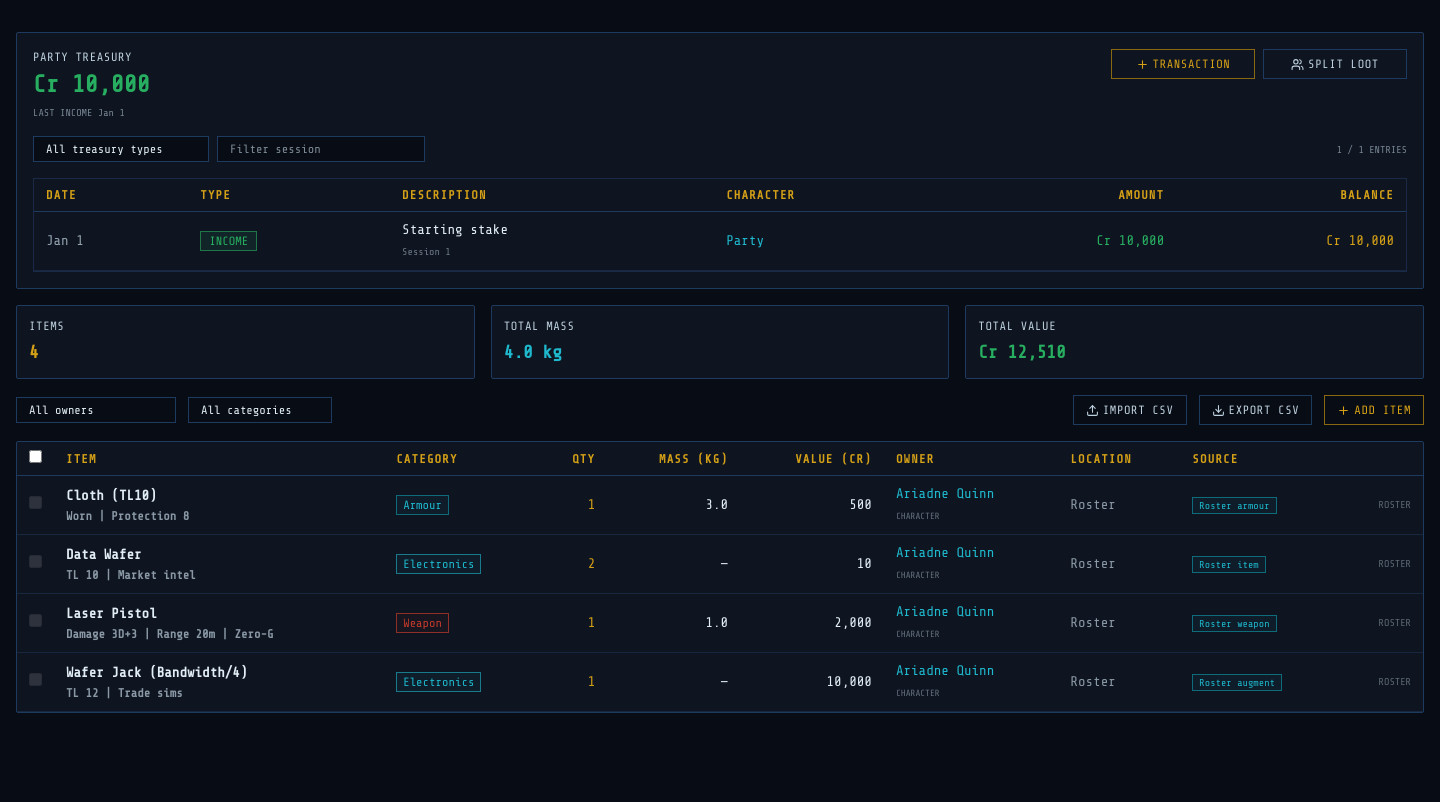
Test: InventoryManager › shows party treasury balance and adds a transaction
The width and height of the screenshot is (1440, 802).
Expected: the text "PARTY TREASURY" is shown, [33, 50, 132, 64]
Expected: the text "Cr 10,000" is shown, [33, 71, 150, 98]
Click the button "TRANSACTION" at [1183, 64], box [1111, 49, 1255, 79]
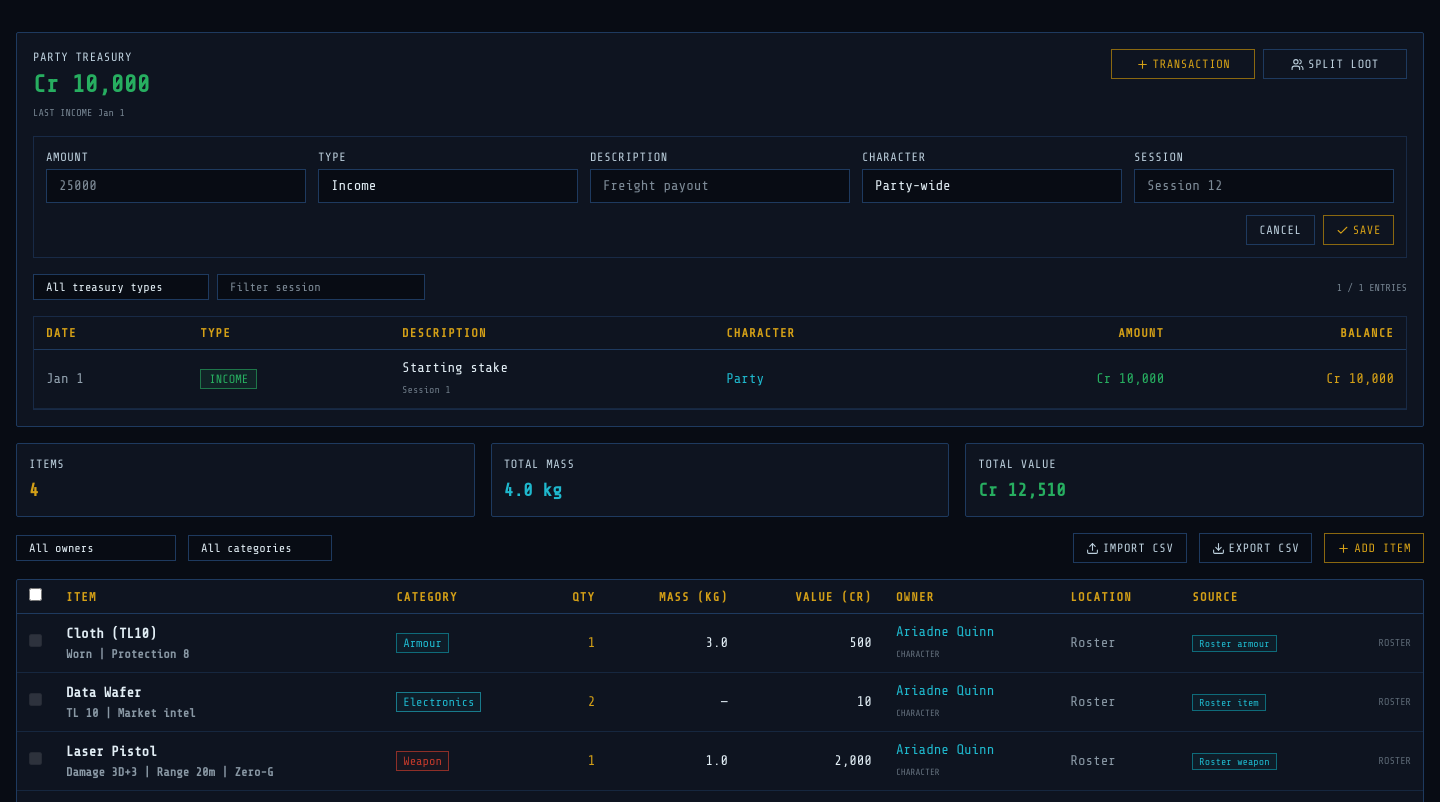
Type "2500" into the field labelled "Amount" at [176, 186], box [46, 169, 306, 203]
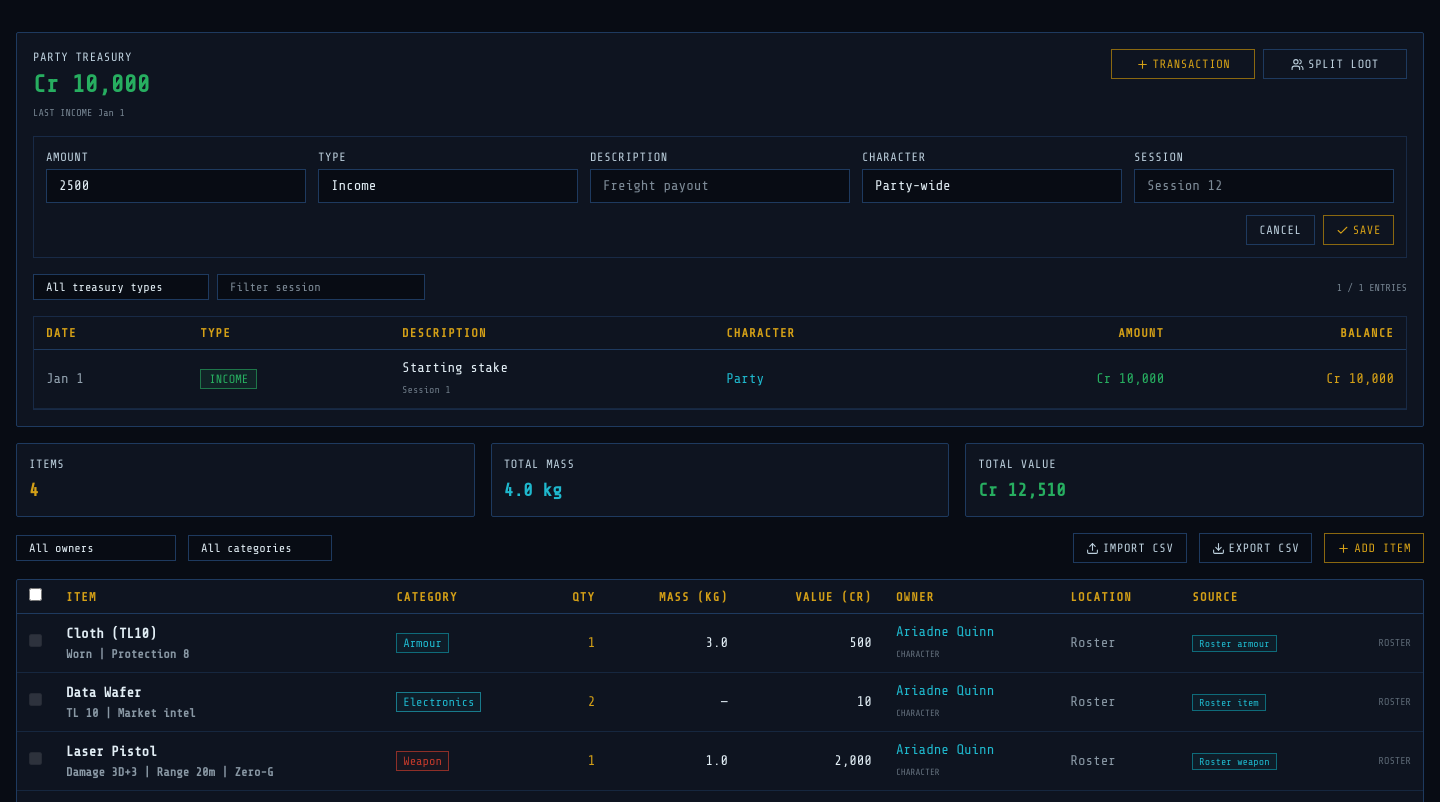
Select "Expense" in the dropdown labelled "Type" at [448, 186], box [318, 169, 578, 203]
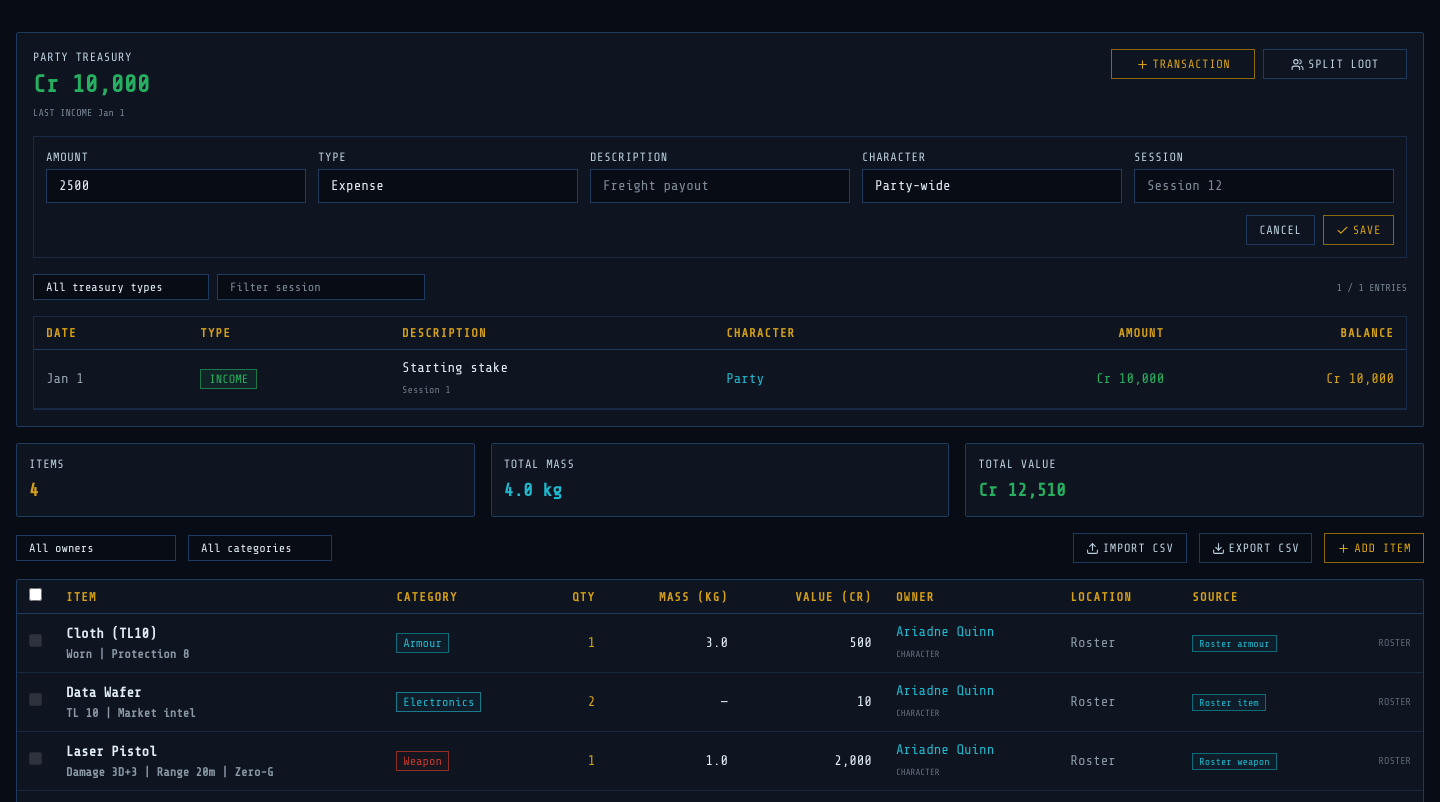
Type "Dock fees" into the field labelled "Description" at [720, 186], box [590, 169, 850, 203]
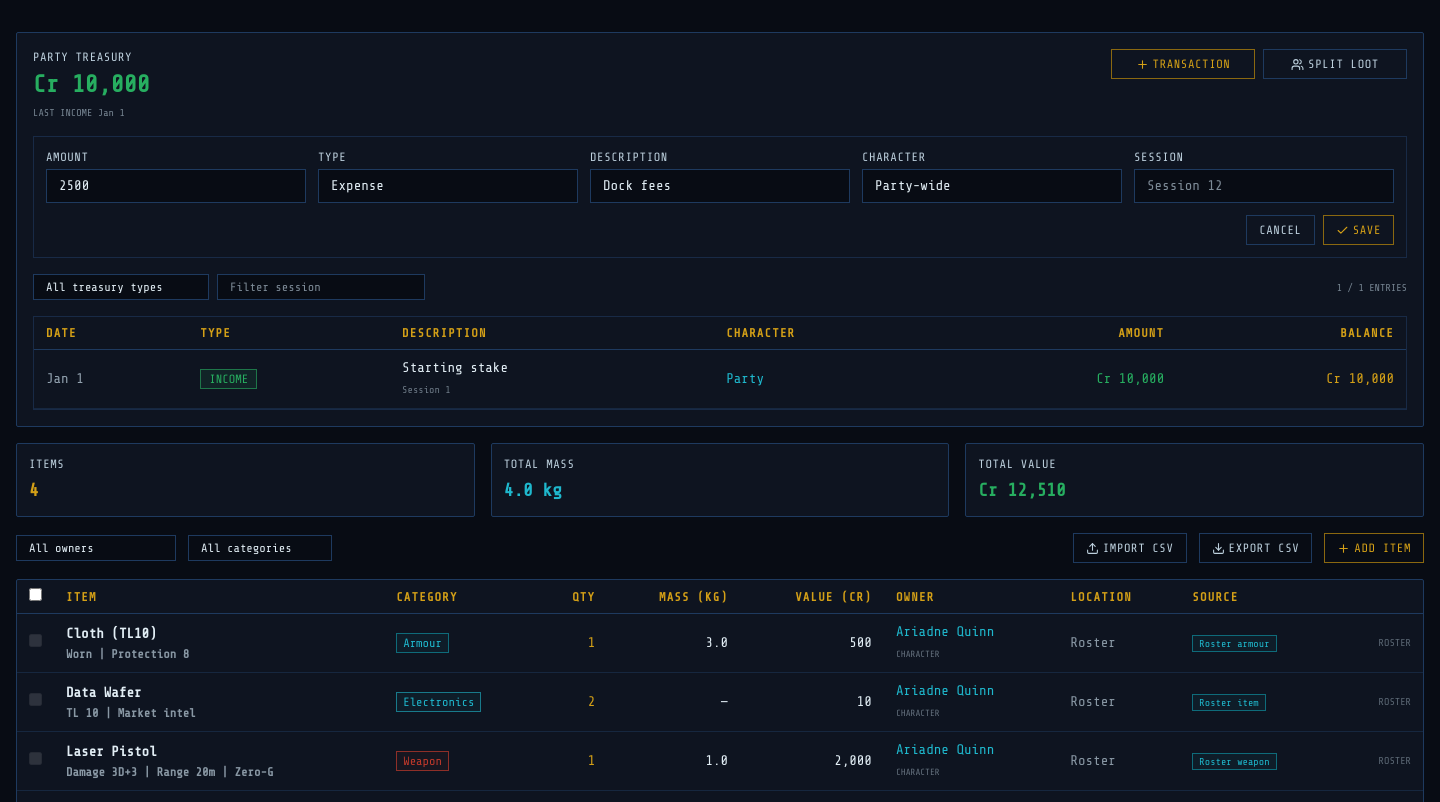
Click the button "SAVE" at [1358, 230], box [1323, 215, 1394, 245]
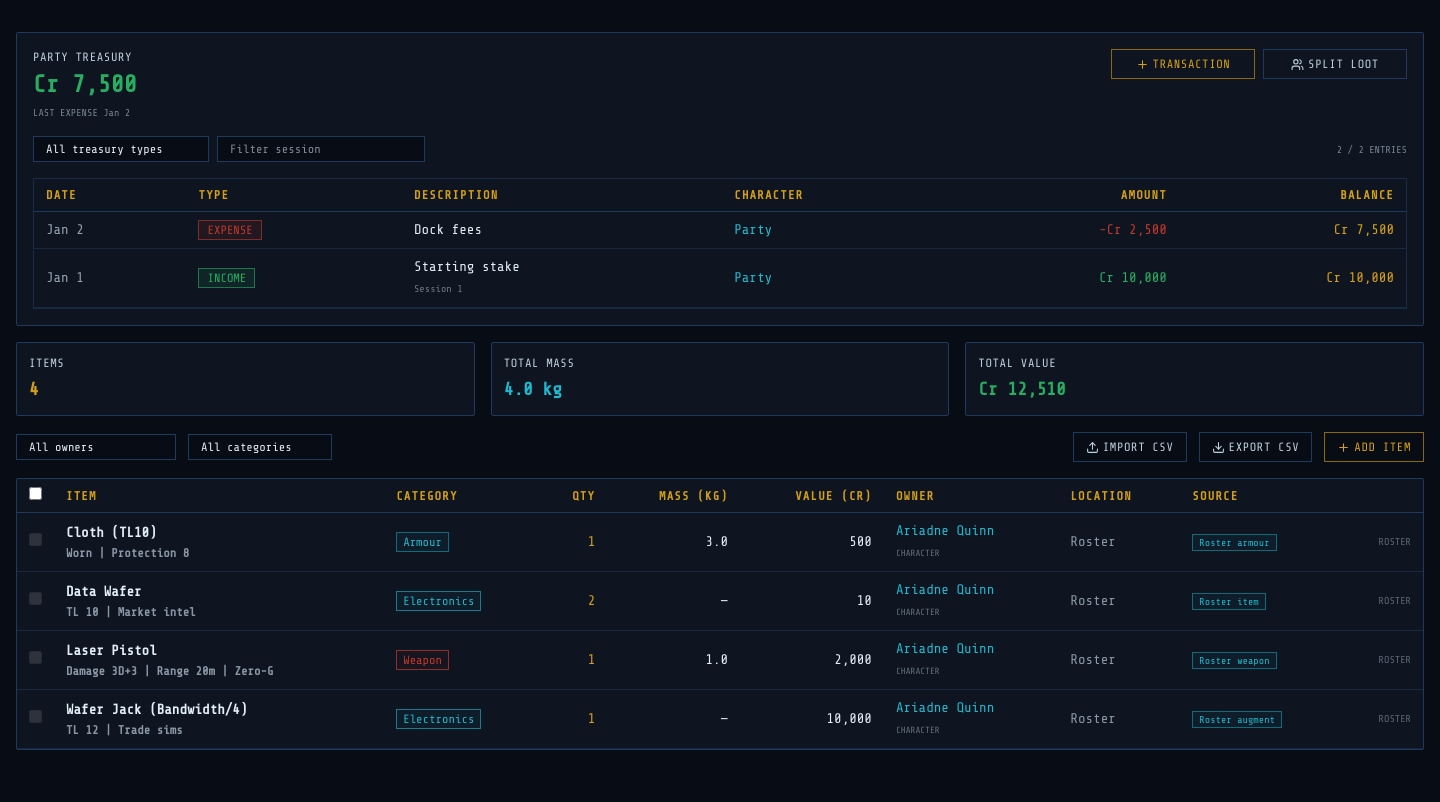
Result: the text "Dock fees" is shown at [414, 222, 482, 237]
